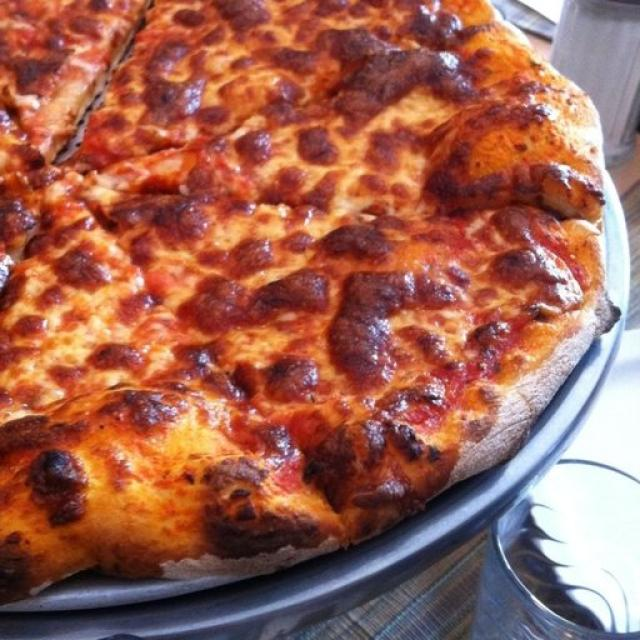Pizza: (0, 0, 616, 602)
